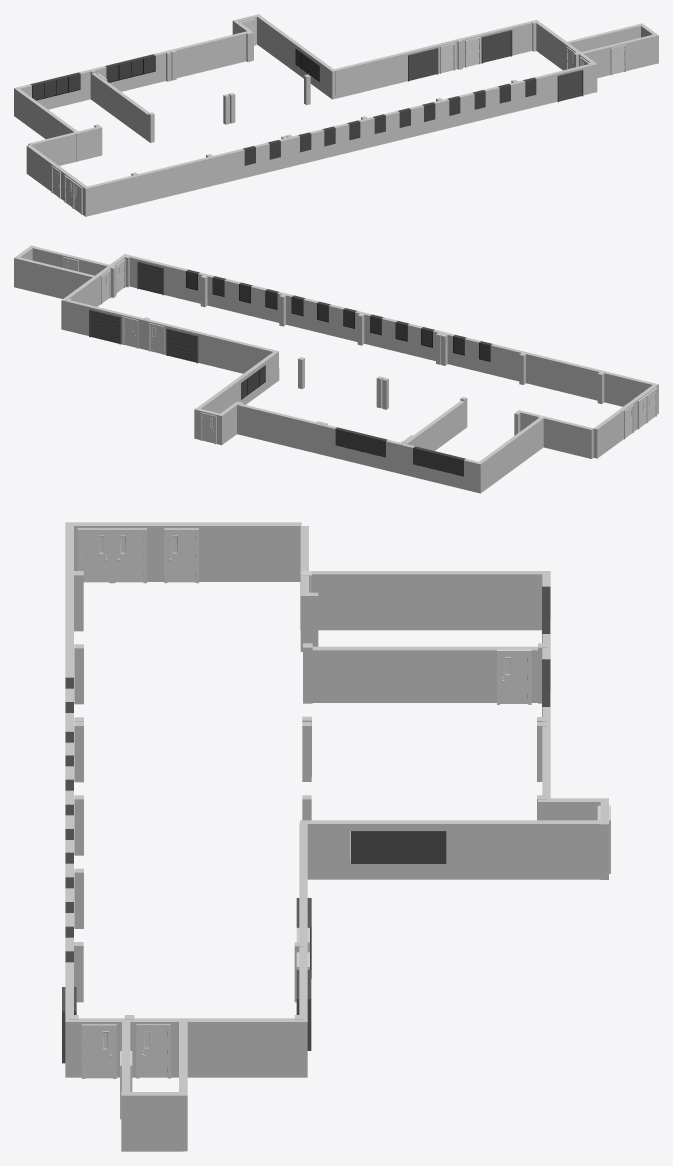
File: walls.glb
3 renders of one model, top to bottom at view 1: azimuth 30°, elevation 25°; view 2: azimuth 150°, elevation 25°; view 3: azimuth 270°, elevation 25°, orthographic. The views are drawn at different scales.
Visible parts, largest first — view 1: Cube.004, Cube, Cube.003, Cube.002, Cube.010, Cube.008, Cube.006, Cube.019, Cube.005, Cube.007, Cube.018, raam.015 (+9 smaller); view 2: Cube.004, Cube, Cube.003, Cube.006, Cube.018, Cube.008, Cube.002, Cube.010, Cube.007, raam.015, raam.012, SHUTTER.HANDLE.003 (+11 smaller); view 3: Cube.002, Cube.006, Cube.010, Cube.005, Cube.007, Metal Door.004, Cube.017, Cube.004, raam.013, Cube.003, Metal Door.011, Metal Door.001 (+6 smaller).
Part boxes in pixels (x1,y1,x2,y2): Cube.004: [83, 64, 593, 216]; Cube: [14, 31, 247, 109]; Cube.003: [334, 20, 537, 98]; Cube.002: [257, 15, 335, 99]; Cube.010: [91, 73, 149, 141]; Cube.008: [28, 124, 102, 165]; Cube.006: [14, 87, 80, 161]; Cube.019: [581, 34, 657, 77]; Cube.005: [536, 21, 597, 92]; Cube.007: [26, 145, 86, 214]; Cube.018: [567, 23, 642, 51]; raam.015: [105, 54, 155, 82]; Cube.004: [128, 255, 658, 414]; Cube: [237, 404, 482, 493]; Cube.003: [61, 298, 275, 373]; Cube.006: [478, 415, 545, 492]; Cube.018: [14, 257, 94, 298]; Cube.008: [514, 410, 593, 458]; Cube.002: [196, 350, 279, 413]; Cube.010: [404, 400, 466, 450]; Cube.007: [593, 385, 656, 458]; raam.015: [335, 427, 387, 457]; raam.012: [413, 446, 465, 476]; SHUTTER.HANDLE.003: [89, 309, 121, 344]; Cube.002: [300, 820, 603, 879]; Cube.006: [300, 571, 550, 630]; Cube.010: [312, 646, 537, 702]; Cube.005: [65, 1018, 302, 1077]; Cube.007: [72, 522, 301, 581]; Metal Door.004: [77, 528, 146, 583]; Cube.017: [121, 1092, 183, 1151]; Cube.004: [65, 522, 73, 1018]; raam.013: [351, 831, 446, 863]; Cube.003: [299, 823, 307, 1077]; Metal Door.011: [81, 1024, 116, 1078]; Metal Door.001: [497, 649, 531, 704].
Size of the model in its own units: 56.48 by 2.58 by 22.81.
10 materials, 3 textured.
